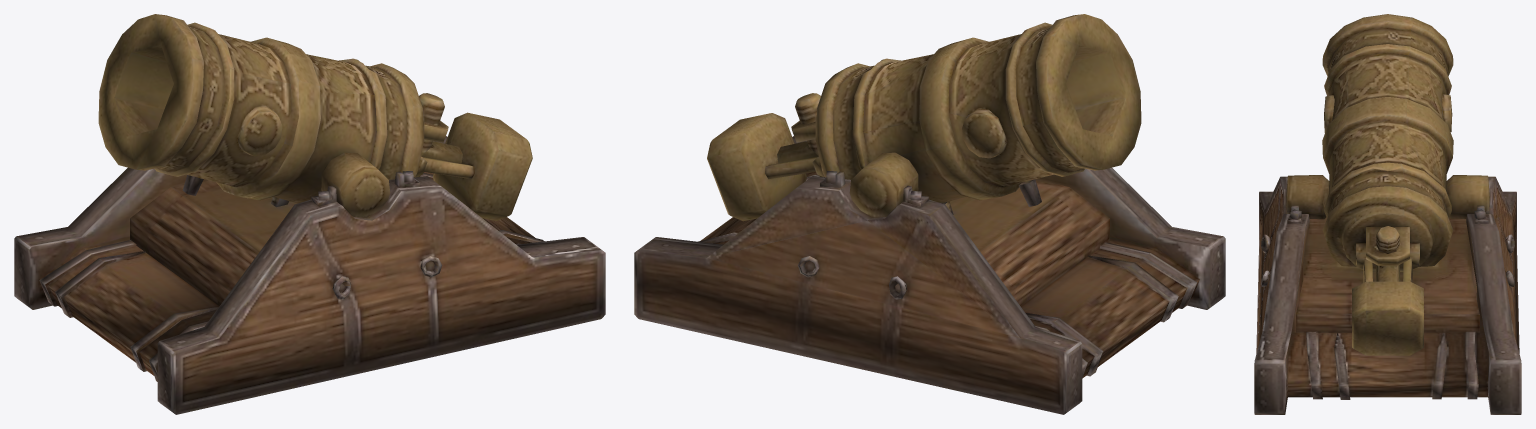
Rendered from mortar.glb.
3 views of the same model, side by side, from view 1: azimuth 30°, elevation 25°; view 2: azimuth 150°, elevation 25°; view 3: azimuth 270°, elevation 25° (orthographic). The views are drawn at different scales.
Visible parts, largest first — view 1: tripo_node_5e0e4c75-8488-4825-ab82-069fef0ef8e2; view 2: tripo_node_5e0e4c75-8488-4825-ab82-069fef0ef8e2; view 3: tripo_node_5e0e4c75-8488-4825-ab82-069fef0ef8e2.
Boxes of the visible parts, box(x1,y1,x2,y2) form: tripo_node_5e0e4c75-8488-4825-ab82-069fef0ef8e2: box(14, 14, 605, 414); tripo_node_5e0e4c75-8488-4825-ab82-069fef0ef8e2: box(634, 14, 1225, 414); tripo_node_5e0e4c75-8488-4825-ab82-069fef0ef8e2: box(1254, 14, 1521, 414).
Size of the model in its own units: 0.9995 by 0.7212 by 0.6626.
1 material, 1 textured.
